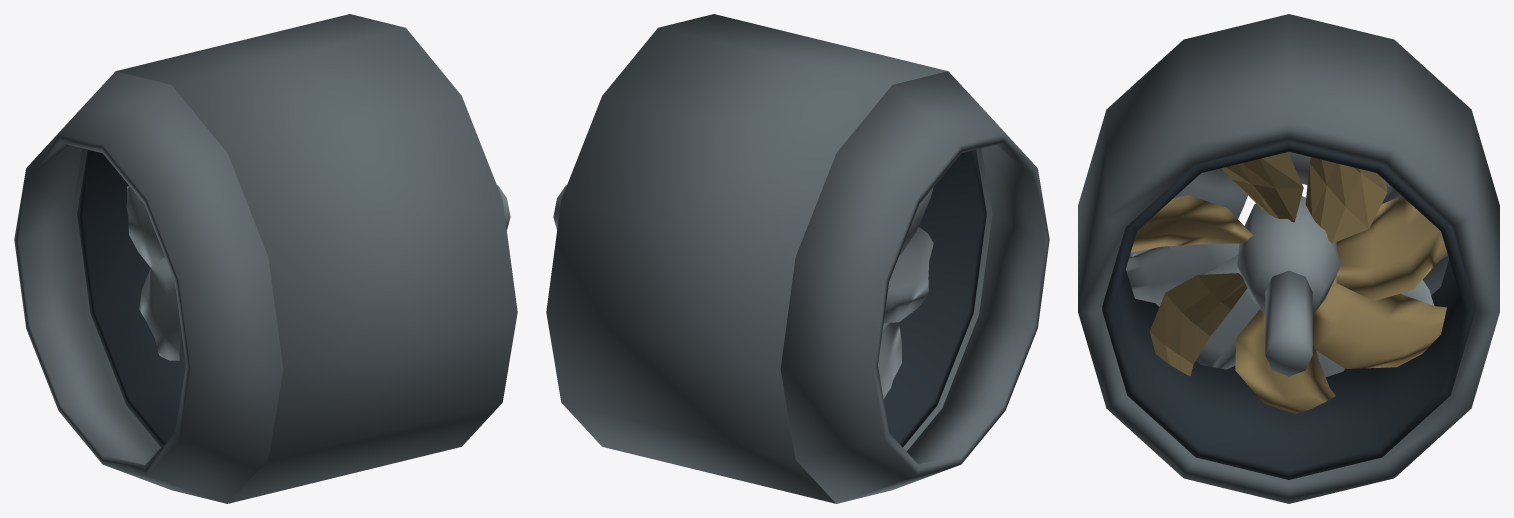
Rendered from RU_PJ_Yasen_LOD3.fbx.
The picture shows the model from 3 angles, left to right: view 1: azimuth 30°, elevation 25°; view 2: azimuth 150°, elevation 25°; view 3: azimuth 270°, elevation 25°; orthographic projection. The views are drawn at different scales.
Visible parts, largest first — view 1: RU_PJ_Yasen_LOD3_Housing.001, RU_PJ_Yasen_LOD3_Nozzle.001, RU_PJ_Yasen_LOD3_Lining.001, RU_PJ_Yasen_LOD3_Stator_08.001, RU_PJ_Yasen_LOD3_Stator_00.001; view 2: RU_PJ_Yasen_LOD3_Housing.001, RU_PJ_Yasen_LOD3_Nozzle.001, RU_PJ_Yasen_LOD3_Lining.001, RU_PJ_Yasen_LOD3_Stator_05.001, RU_PJ_Yasen_LOD3_Stator_06.001; view 3: RU_PJ_Yasen_LOD3_Housing.001, RU_PJ_Yasen_LOD3_Lining.001, RU_PJ_Yasen_LOD3_Rotor_06.001, RU_PJ_Yasen_LOD3_Rotor_00.001, RU_PJ_Yasen_LOD3_Hub.001, RU_PJ_Yasen_LOD3_Rotor_04.001, RU_PJ_Yasen_LOD3_Rotor_01.001, RU_PJ_Yasen_LOD3_Rotor_05.001, RU_PJ_Yasen_LOD3_Shaft.001, RU_PJ_Yasen_LOD3_Rotor_03.001, RU_PJ_Yasen_LOD3_Stator_05.001, RU_PJ_Yasen_LOD3_Rotor_02.001 (+3 smaller).
Boxes of the visible parts, x1,y1,x2,y2 form: RU_PJ_Yasen_LOD3_Housing.001: (71, 14, 517, 503); RU_PJ_Yasen_LOD3_Nozzle.001: (14, 71, 283, 503); RU_PJ_Yasen_LOD3_Lining.001: (77, 149, 182, 447); RU_PJ_Yasen_LOD3_Stator_08.001: (139, 257, 181, 360); RU_PJ_Yasen_LOD3_Stator_00.001: (126, 186, 175, 287); RU_PJ_Yasen_LOD3_Housing.001: (546, 14, 992, 503); RU_PJ_Yasen_LOD3_Nozzle.001: (780, 71, 1049, 503); RU_PJ_Yasen_LOD3_Lining.001: (883, 149, 986, 447); RU_PJ_Yasen_LOD3_Stator_05.001: (883, 227, 933, 323); RU_PJ_Yasen_LOD3_Stator_06.001: (878, 322, 901, 398); RU_PJ_Yasen_LOD3_Housing.001: (1078, 14, 1499, 503); RU_PJ_Yasen_LOD3_Lining.001: (1102, 142, 1475, 479); RU_PJ_Yasen_LOD3_Rotor_06.001: (1312, 275, 1446, 368); RU_PJ_Yasen_LOD3_Rotor_00.001: (1336, 196, 1446, 300); RU_PJ_Yasen_LOD3_Hub.001: (1237, 196, 1340, 313); RU_PJ_Yasen_LOD3_Rotor_04.001: (1149, 273, 1247, 375); RU_PJ_Yasen_LOD3_Rotor_01.001: (1305, 157, 1387, 243); RU_PJ_Yasen_LOD3_Rotor_05.001: (1235, 309, 1335, 414); RU_PJ_Yasen_LOD3_Shaft.001: (1265, 270, 1312, 376); RU_PJ_Yasen_LOD3_Rotor_03.001: (1131, 195, 1252, 252); RU_PJ_Yasen_LOD3_Stator_05.001: (1126, 243, 1239, 303); RU_PJ_Yasen_LOD3_Rotor_02.001: (1221, 152, 1303, 222).
Size of the model in its own units: 603 by 590 by 590.
